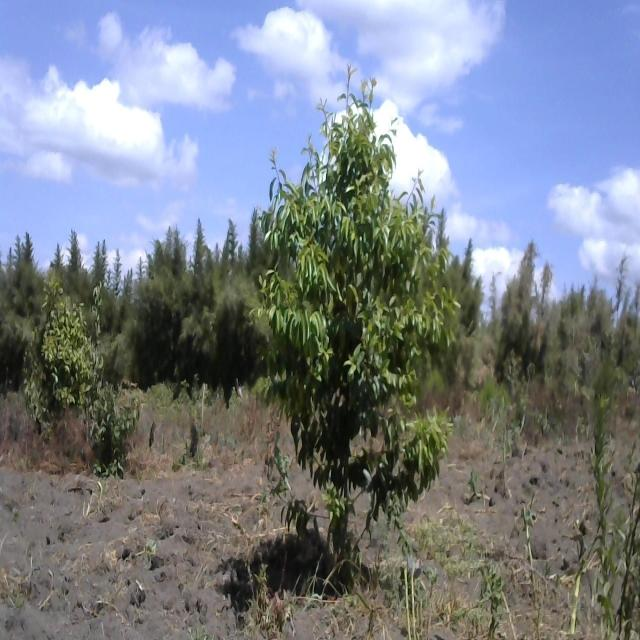Olea welwitchii: (260, 60, 460, 590), (23, 274, 104, 424)
